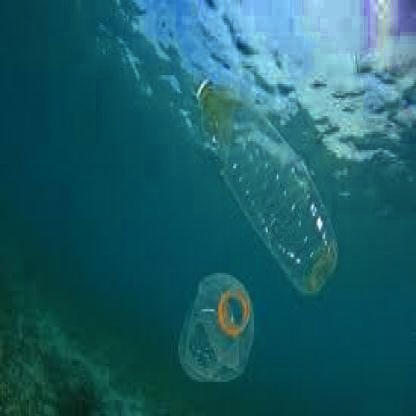pbottle: (184, 61, 340, 298), (171, 264, 263, 386)
